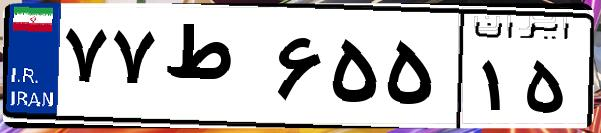1: (475, 38, 525, 113)
5: (385, 28, 445, 110), (330, 28, 385, 110), (525, 38, 570, 115)
6: (270, 28, 330, 110)
7: (57, 26, 110, 100), (110, 28, 158, 98)
ط: (158, 20, 270, 120)
